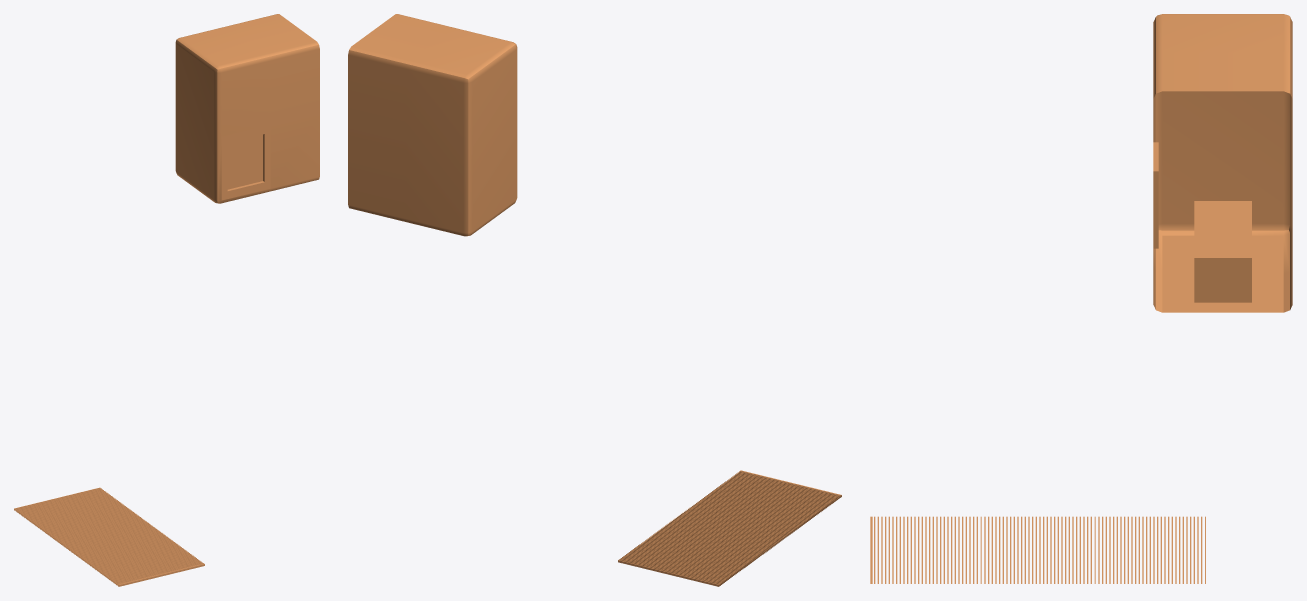
File: Large_detail.fbx
3 renders of one model, left to right at view 1: azimuth 30°, elevation 25°; view 2: azimuth 150°, elevation 25°; view 3: azimuth 270°, elevation 25°, orthographic. The views are drawn at different scales.
Parts seen in each view (by area): view 1: transformerBox_01, floorGrid_01; view 2: transformerBox_01, floorGrid_01; view 3: transformerBox_01, floorGrid_01.
Part boxes in pixels (left/top/right/bottom): transformerBox_01: left=175, top=14, right=319, bottom=203; floorGrid_01: left=14, top=487, right=204, bottom=586; transformerBox_01: left=348, top=14, right=517, bottom=236; floorGrid_01: left=618, top=470, right=841, bottom=586; transformerBox_01: left=1153, top=14, right=1292, bottom=312; floorGrid_01: left=870, top=516, right=1205, bottom=583.
Bounding box in the file's own units: 14.58 × 19.65 × 11.49.
